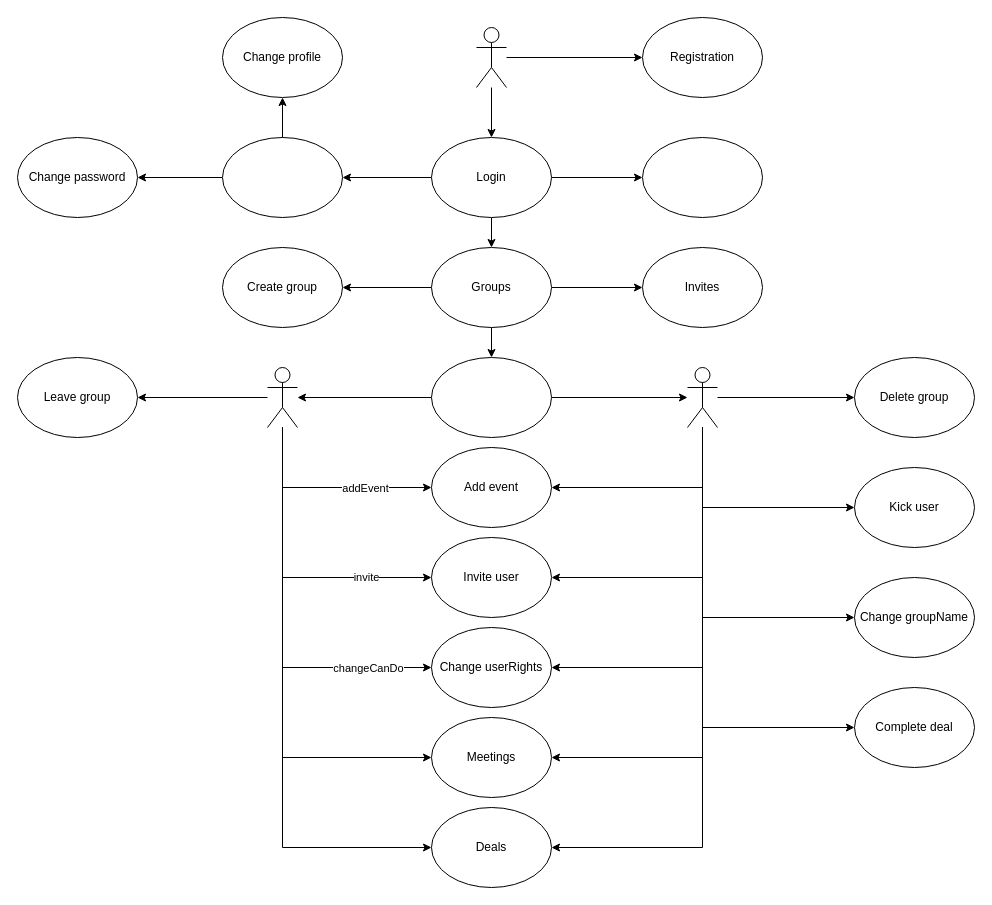
This 992x905 diagram has some shape labels left out. The centre of each missing label's shape, as x and y in pixels:
"Admin" goes at pixel 702 397.
"Events" goes at pixel 702 177.
"Member" goes at pixel 282 397.
"Profile" goes at pixel 282 177.
"Select group" goes at pixel 491 397.
"User" goes at pixel 491 57.
